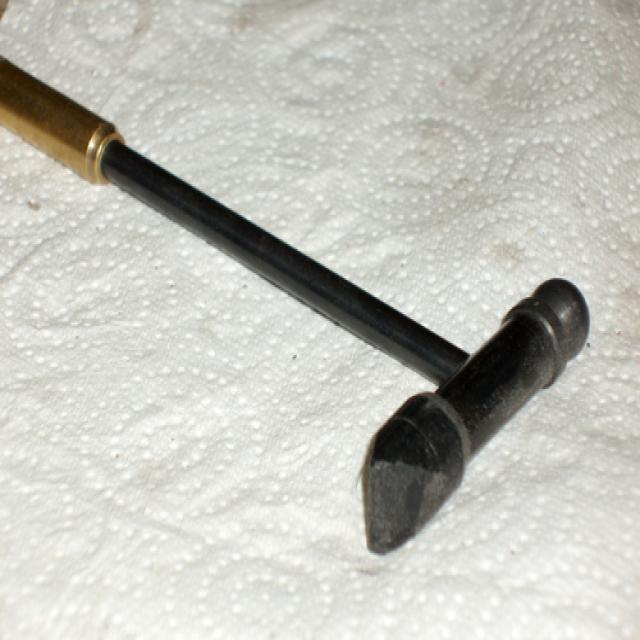hammer: (0, 0, 606, 561)
